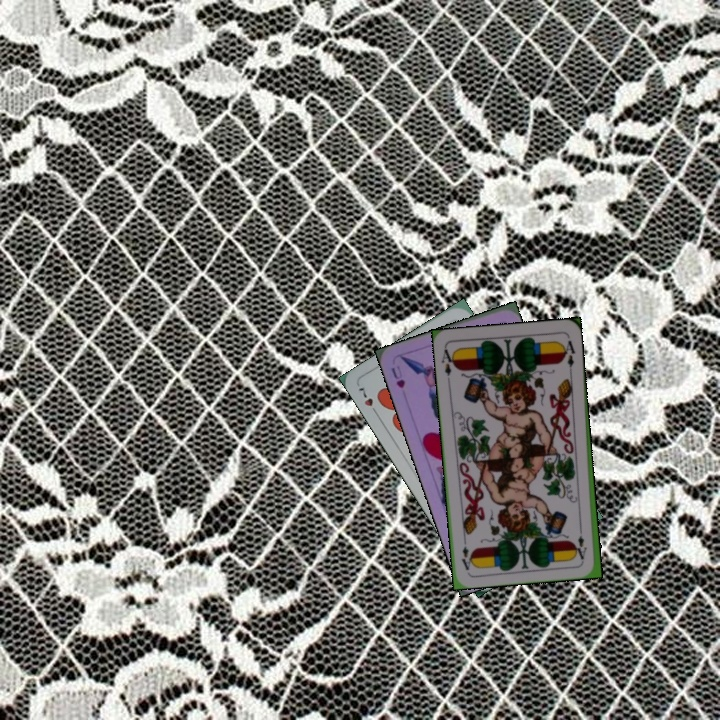EA: (438, 344, 458, 384), (574, 522, 589, 562)
H7: (354, 383, 381, 419)
HU: (387, 361, 408, 391)
